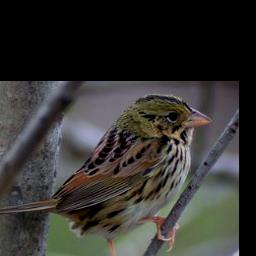Sparrow: (0, 92, 214, 256)
